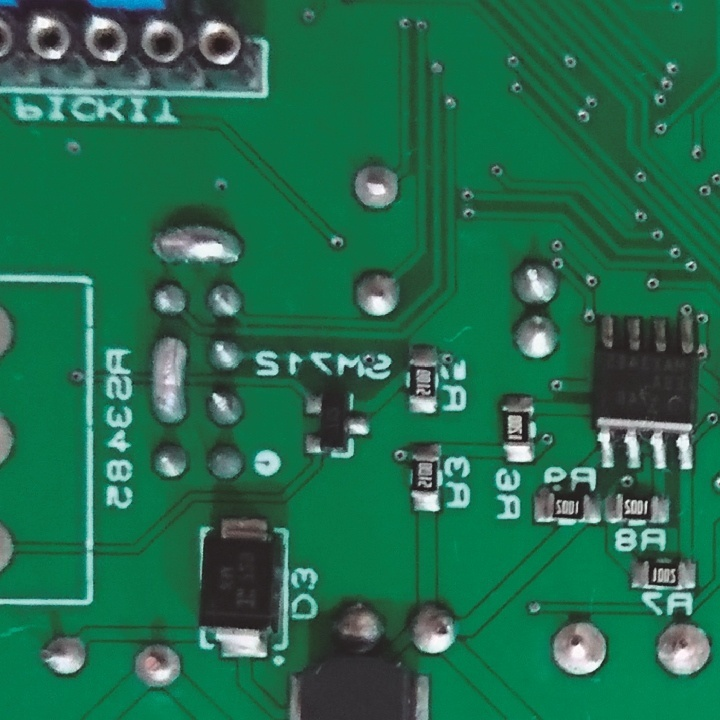F: (648, 620, 714, 680), (552, 617, 613, 678), (350, 159, 403, 217), (130, 639, 184, 692), (40, 630, 88, 680)
P: (150, 221, 250, 267), (147, 332, 189, 426)
